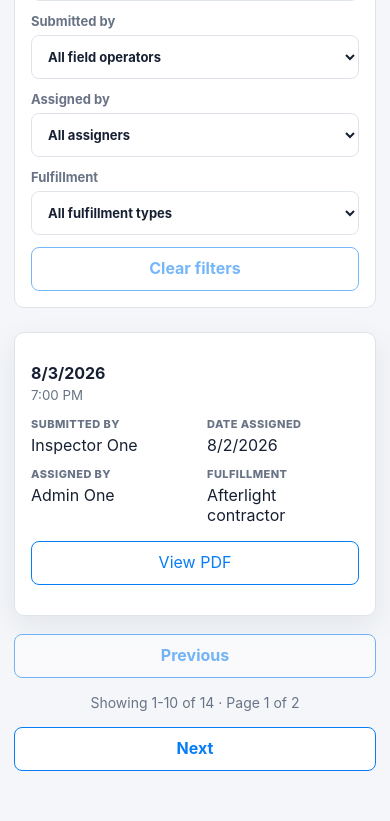
Test: starts a second page after ten records
The image size is (390, 821).
(page scrolled)
Click the button "Next".
click(195, 749)  # box [14,727,376,771]
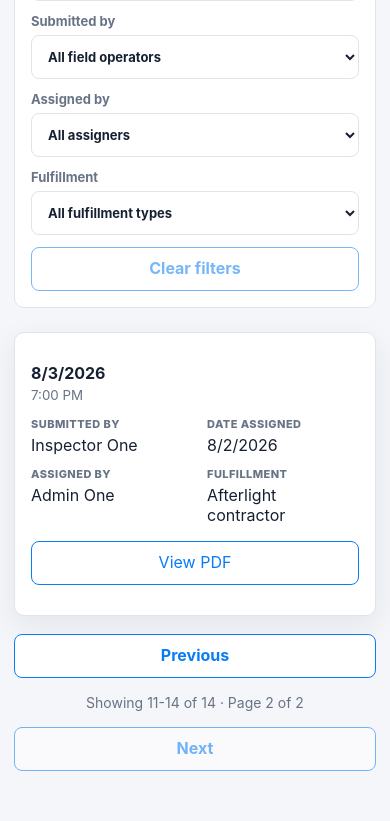
Expected: the text "Showing 11-14 of 14 · Page 2 of 2" is shown, [86,694,304,711]
